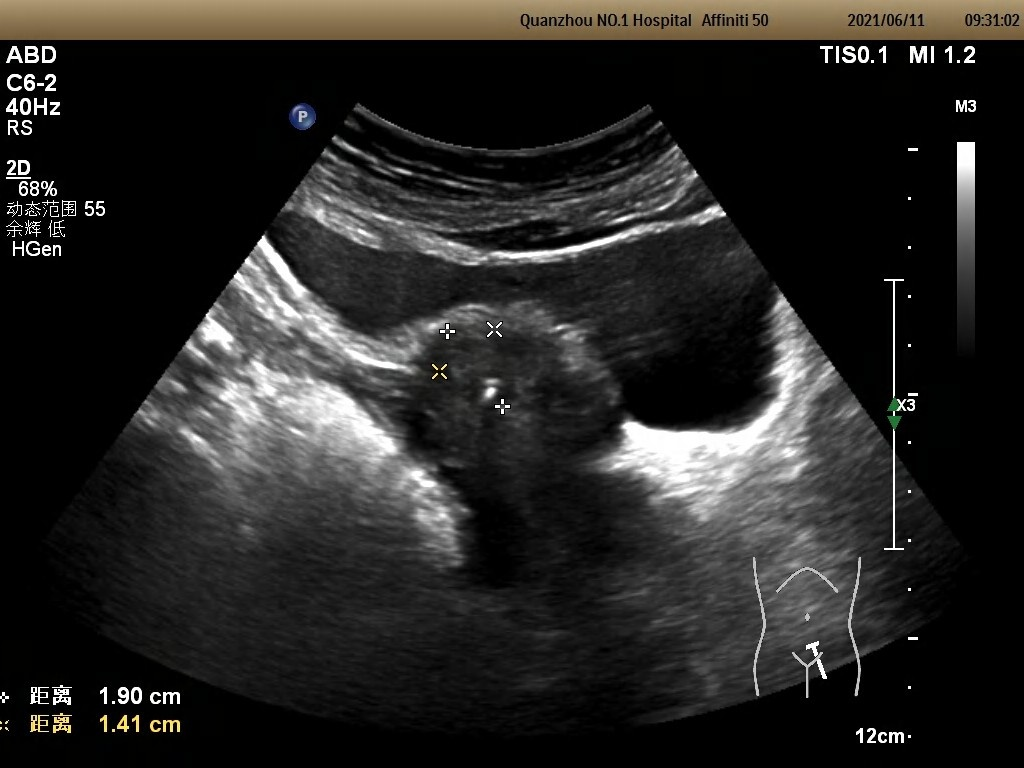肌瘤: (437, 325, 507, 410)
